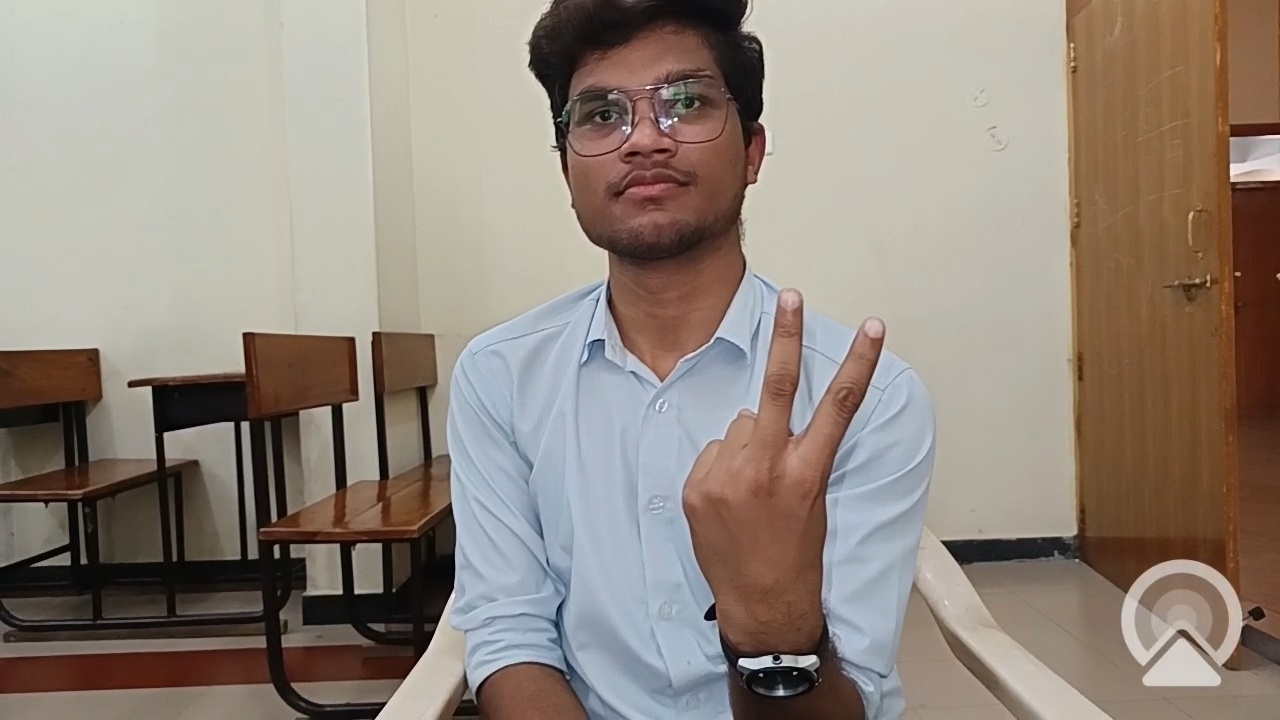V: (673, 261, 925, 699)
